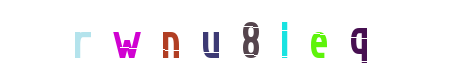8: (197, 0, 277, 80)
E: (278, 0, 358, 80)
L: (244, 0, 324, 80)
N: (141, 0, 221, 80)
Q: (320, 0, 400, 80)
R: (86, 0, 166, 80)
U: (189, 0, 269, 80)
W: (130, 0, 210, 80)
